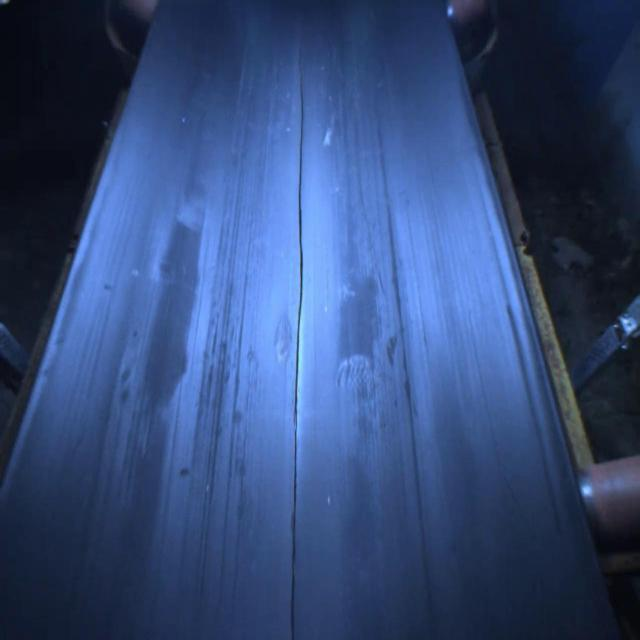Tear: (282, 47, 310, 640)
